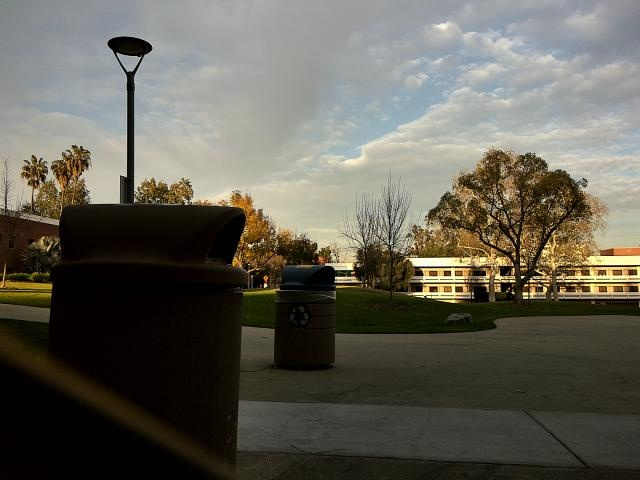trashcan: (48, 195, 242, 480), (271, 265, 341, 382)
